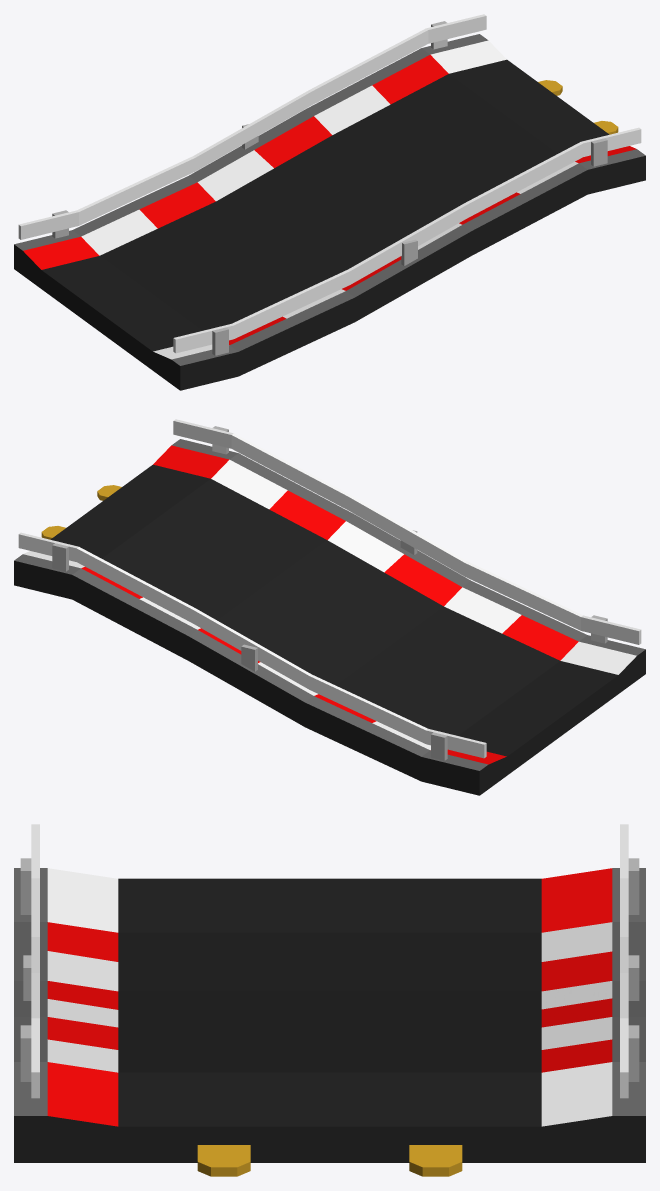
3 renders of one model, top to bottom at view 1: azimuth 30°, elevation 25°; view 2: azimuth 150°, elevation 25°; view 3: azimuth 270°, elevation 25°, orthographic. The views are drawn at different scales.
Visible parts, largest first — view 1: Group1; view 2: Group1; view 3: Group1.
Boxes of the visible parts, x1,y1,x2,y2 form: Group1: (14, 14, 645, 390); Group1: (14, 419, 645, 795); Group1: (14, 824, 645, 1176).
Size of the model in its own units: 21.96 by 6.19 by 12.91.
